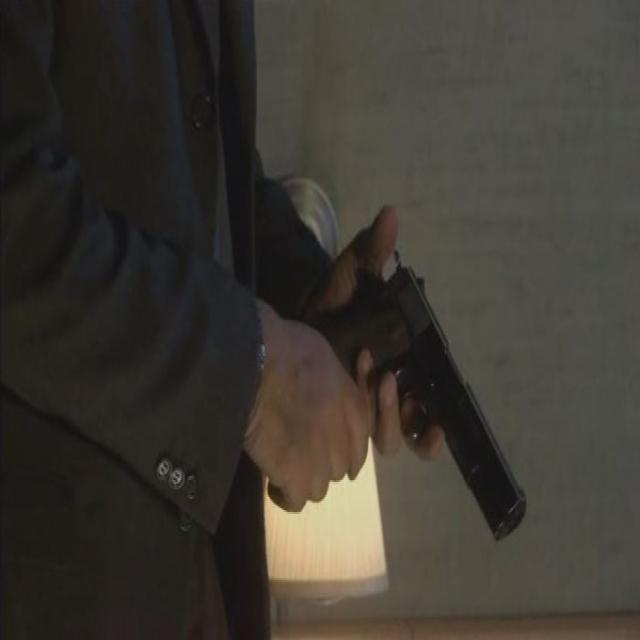weapons: (293, 207, 544, 559)
